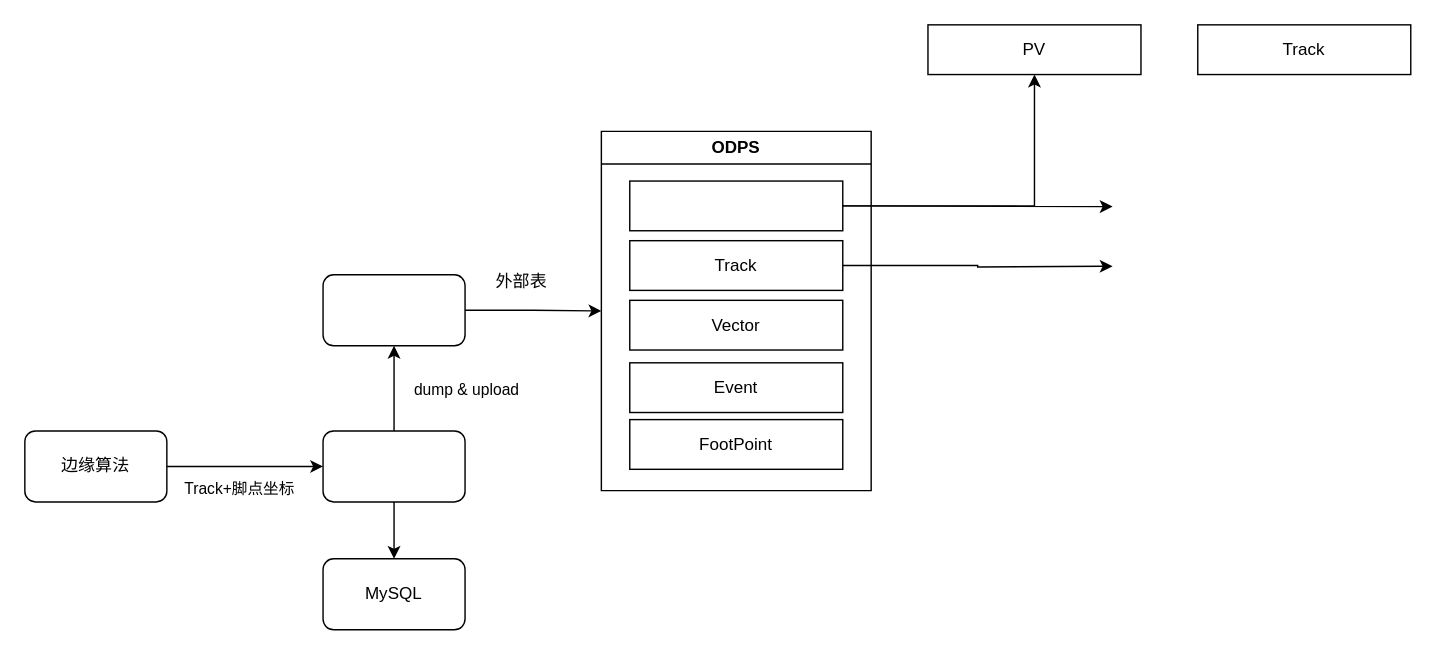
Some shapes in this 1436 by 655 pixel diagram are drawn without their labels. The centre of each missing label's shape, as x and y in pixels:
"OSS" belongs at point (393, 309).
"Path" belongs at point (735, 205).
"边缘服务" belongs at point (393, 466).
